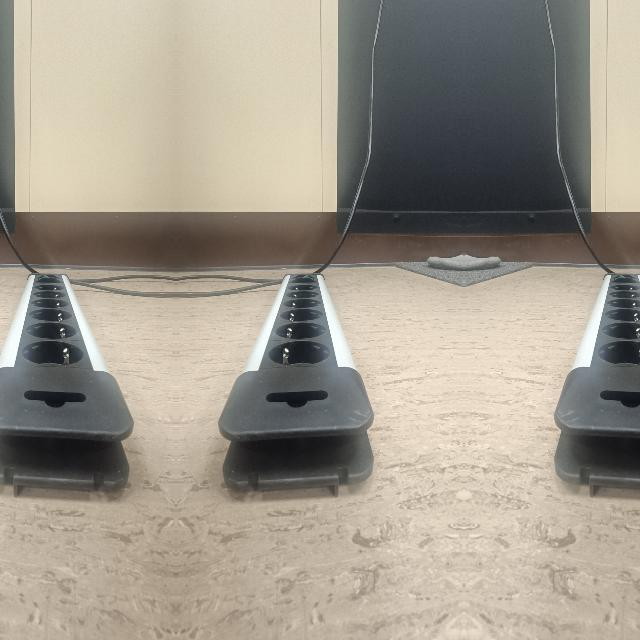obstacle: (221, 274, 375, 486), (0, 274, 129, 486), (552, 274, 640, 486)
